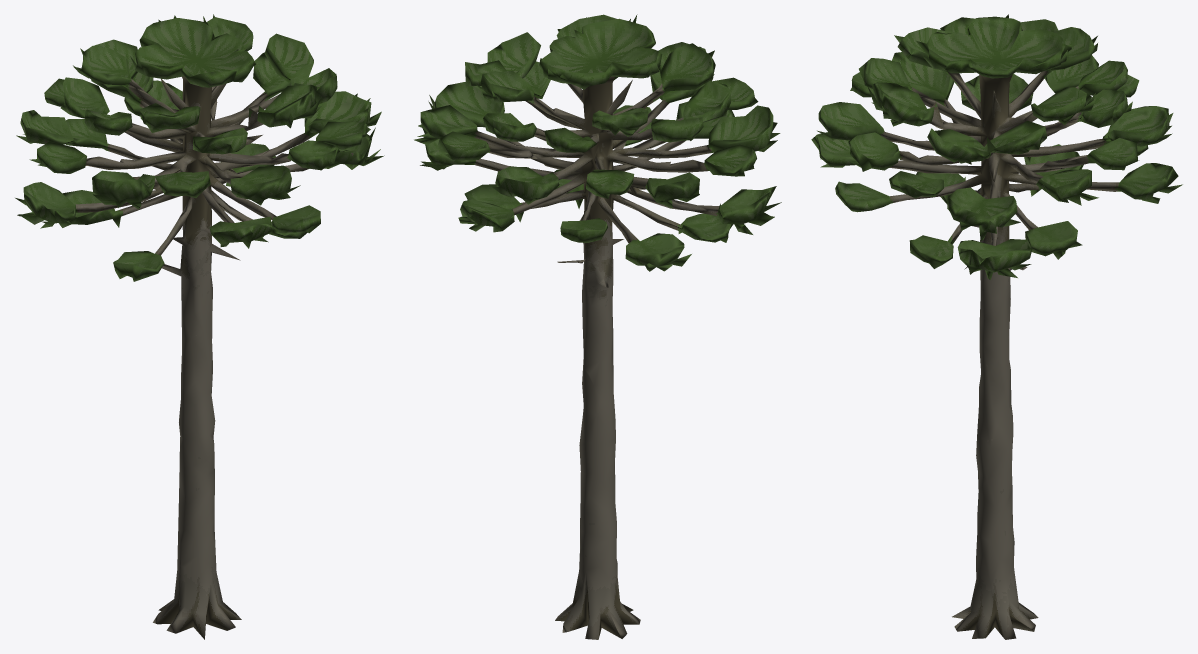
Rendered from araucaria_adulta.glb.
3 renders of one model, left to right at view 1: azimuth 30°, elevation 25°; view 2: azimuth 150°, elevation 25°; view 3: azimuth 270°, elevation 25°, orthographic.
Parts seen in each view (by area): view 1: tripo_node_190854b6-ce2d-4594-a666-ab3cbf2ea408; view 2: tripo_node_190854b6-ce2d-4594-a666-ab3cbf2ea408; view 3: tripo_node_190854b6-ce2d-4594-a666-ab3cbf2ea408.
Boxes of the visible parts, left/top/right/bottom form: tripo_node_190854b6-ce2d-4594-a666-ab3cbf2ea408: left=15, top=14, right=384, bottom=639; tripo_node_190854b6-ce2d-4594-a666-ab3cbf2ea408: left=414, top=14, right=781, bottom=639; tripo_node_190854b6-ce2d-4594-a666-ab3cbf2ea408: left=811, top=14, right=1182, bottom=639.
Size of the model in its own units: 0.6429 by 1 by 0.5775.
Materials: 1 (1 with a texture image).
